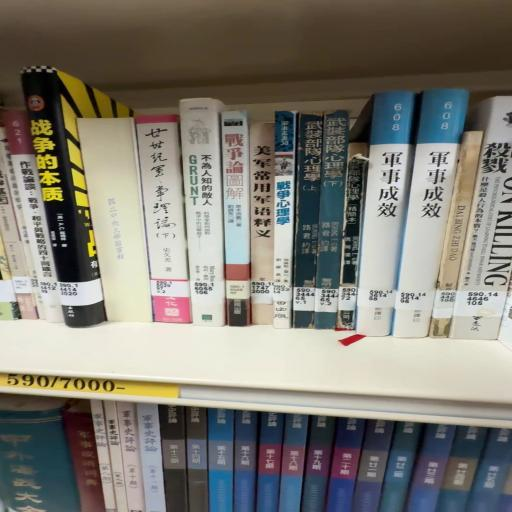backward: (80, 122, 157, 328)
book: (3, 314, 512, 408), (17, 72, 104, 331), (399, 94, 473, 342), (352, 95, 414, 341), (133, 113, 190, 328), (186, 105, 232, 330), (221, 106, 253, 323)
